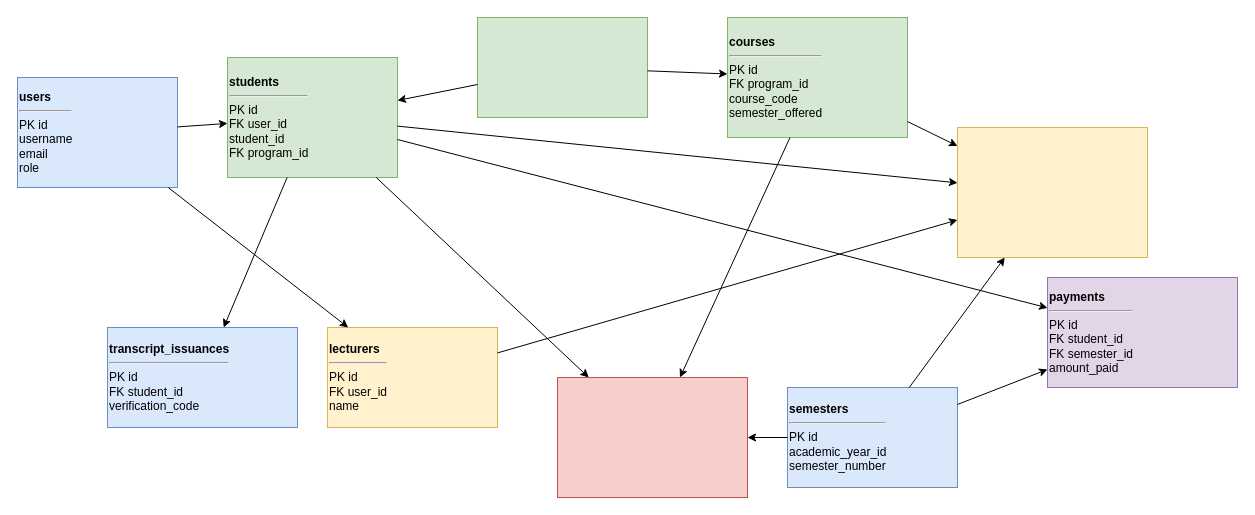
This 1255x515 diagram has some shape labels left out. Here are the shapes that lost their labels. From the top down, the centre of each, then its label:
At pixel 562 67: "programs PK id program_code program_name".
At pixel 1052 192: "results PK id FK student_id FK course_id FK semester_id FK entered_by".
At pixel 652 437: "course_registrations PK id FK student_id FK course_id FK semester_id".
